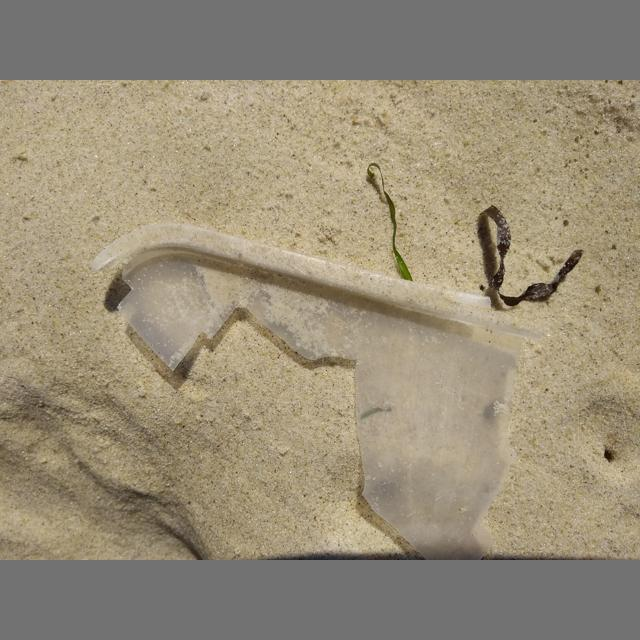litter: (89, 224, 541, 560)
